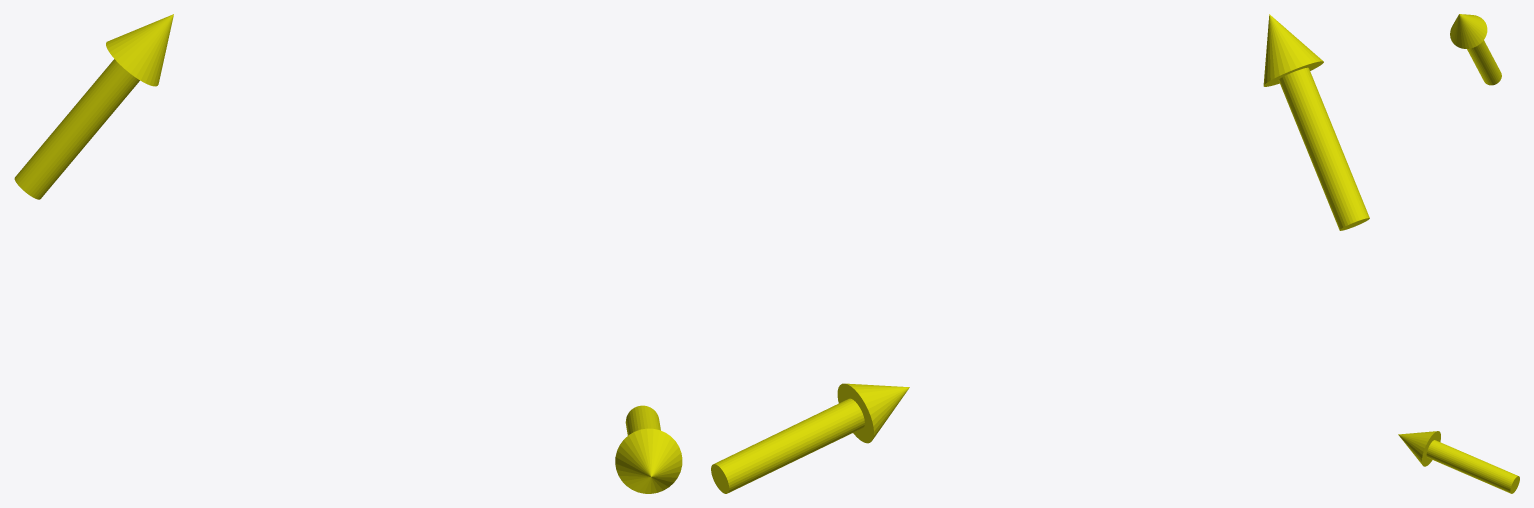
File: forcemap.glb
The picture shows the model from 3 angles, left to right: view 1: azimuth 30°, elevation 25°; view 2: azimuth 150°, elevation 25°; view 3: azimuth 270°, elevation 25°; orthographic projection. The views are drawn at different scales.
Parts seen in each view (by area): view 1: world; view 2: world; view 3: world.
Part boxes in pixels (bbox=[...]): world: bbox=[14, 14, 682, 493]; world: bbox=[711, 14, 1369, 493]; world: bbox=[1398, 14, 1519, 493].
Bounding box in the file's own units: 0.0903 × 0.0766 × 0.0253.
